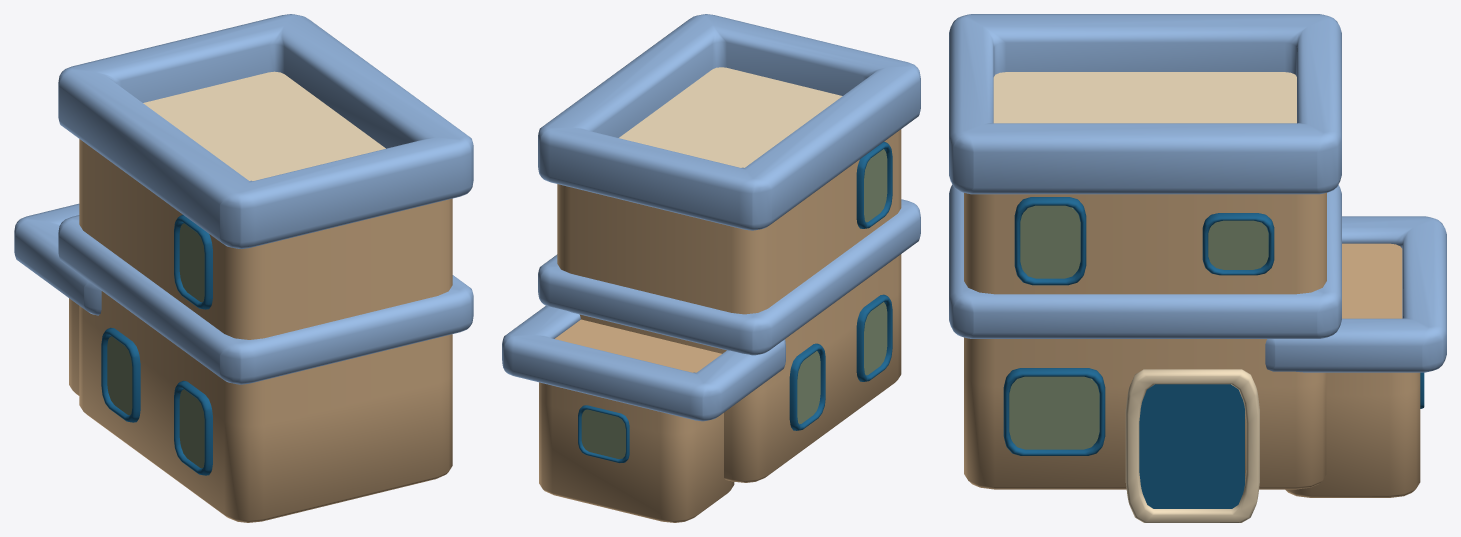
File: Building_3 1.fbx
The picture shows the model from 3 angles, left to right: view 1: azimuth 30°, elevation 25°; view 2: azimuth 150°, elevation 25°; view 3: azimuth 270°, elevation 25°; orthographic projection. The views are drawn at different scales.
Parts seen in each view (by area): view 1: Plane.031; view 2: Plane.031; view 3: Plane.031.
Boxes of the visible parts, <box> form: Plane.031: <box>14,14,473,522</box>; Plane.031: <box>502,14,920,522</box>; Plane.031: <box>949,14,1446,522</box>.
Bounding box in the file's own units: 817 × 1117 × 1304.
